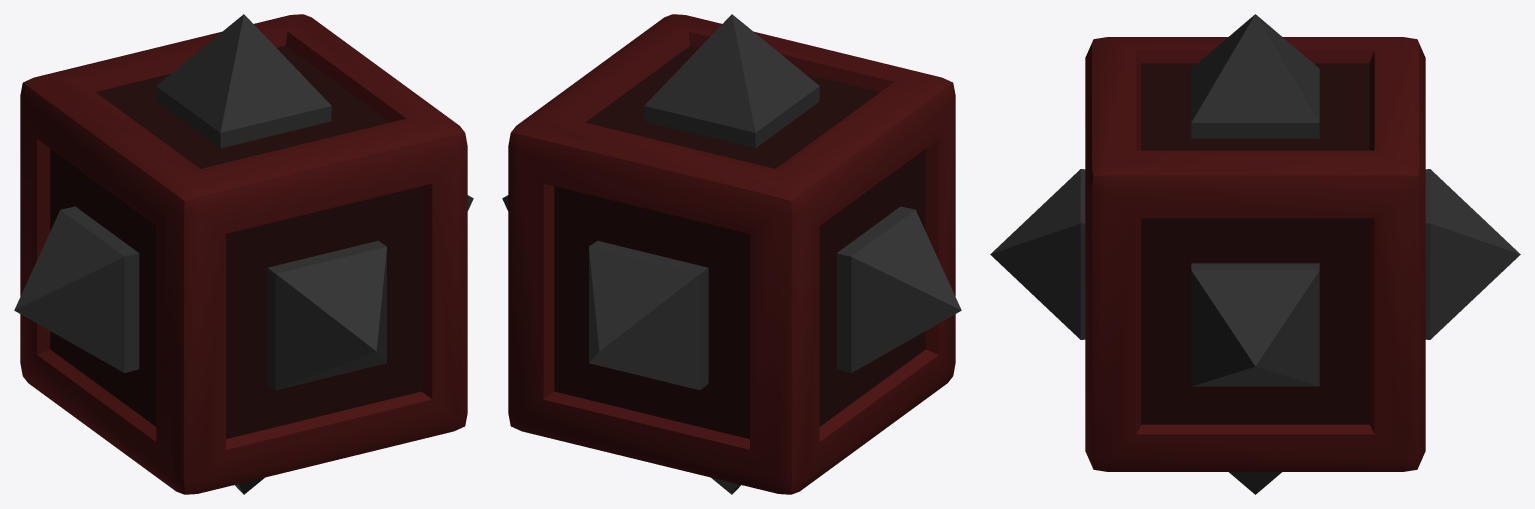
File: Cube_Spikes.obj
The picture shows the model from 3 angles, left to right: view 1: azimuth 30°, elevation 25°; view 2: azimuth 150°, elevation 25°; view 3: azimuth 270°, elevation 25°; orthographic projection.
Visible parts, largest first — view 1: Cube_Spikes_Cube.060; view 2: Cube_Spikes_Cube.060; view 3: Cube_Spikes_Cube.060.
Part boxes in pixels (<box>): Cube_Spikes_Cube.060: <box>14,14,473,494</box>; Cube_Spikes_Cube.060: <box>502,14,961,494</box>; Cube_Spikes_Cube.060: <box>990,14,1520,494</box>.
Size of the model in its own units: 3.15 by 3.15 by 3.15.
